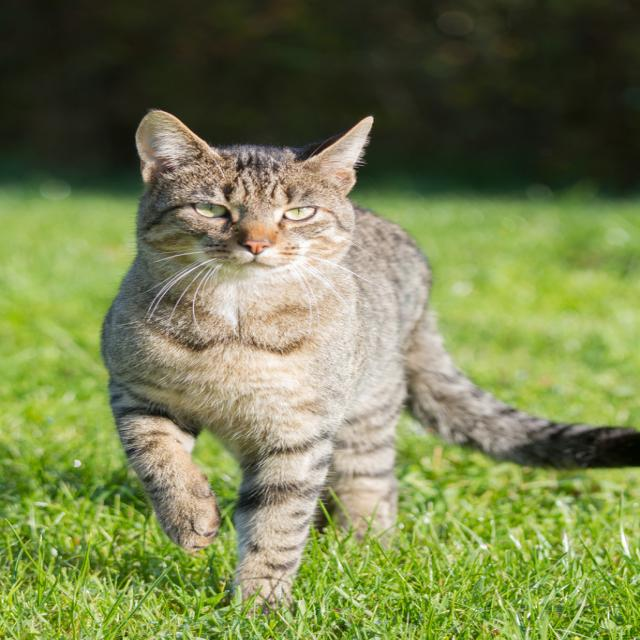Cat: (92, 106, 636, 606)
